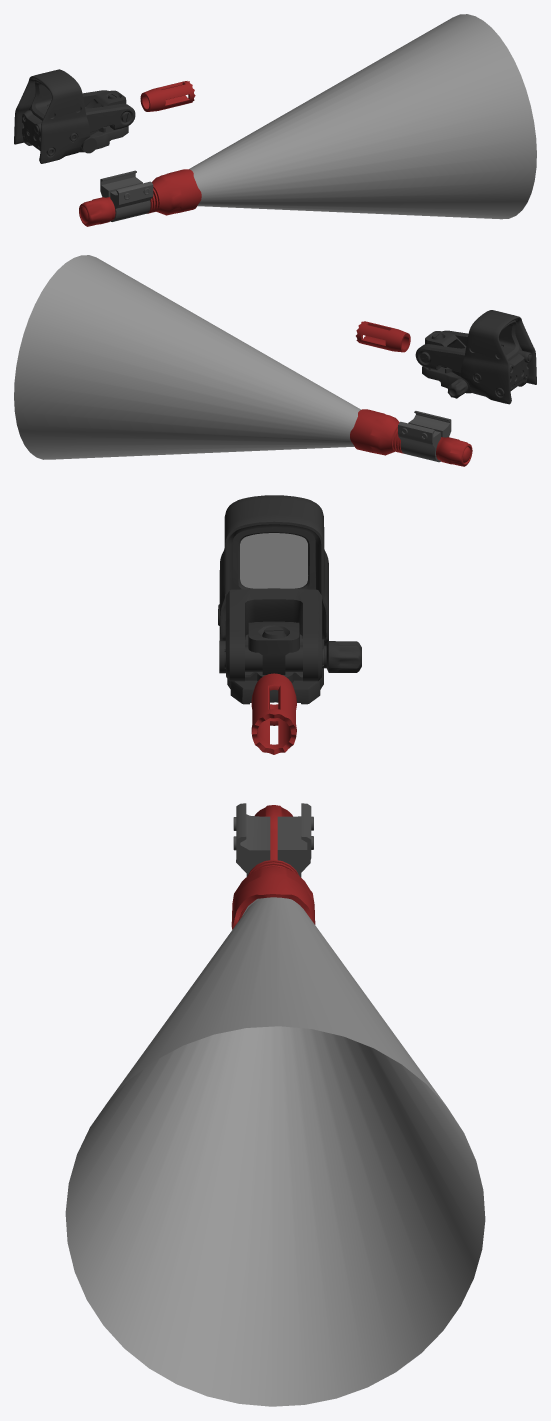
File: moduli mini gun 1.FBX
3 views of the same model, one above another, from view 1: azimuth 30°, elevation 25°; view 2: azimuth 150°, elevation 25°; view 3: azimuth 270°, elevation 25° (orthographic). The views are drawn at different scales.
Parts seen in each view (by area): view 1: Cylinder001, Aim 3, Options 1 -2, laser sight 2, Options 1-3; view 2: Cylinder001, Aim 3, Options 1 -2, laser sight 2, Options 1-3; view 3: Cylinder001, Aim 3, laser sight 2, Options 1 -2, Options 1-3.
Boxes of the visible parts, x1,y1,x2,y2 form: Cylinder001: [189, 14, 536, 219]; Aim 3: [14, 69, 135, 163]; Options 1 -2: [79, 169, 201, 226]; laser sight 2: [100, 170, 153, 221]; Options 1-3: [140, 81, 195, 111]; Cylinder001: [14, 255, 360, 459]; Aim 3: [415, 310, 536, 404]; Options 1 -2: [350, 409, 472, 466]; laser sight 2: [398, 411, 451, 462]; Options 1-3: [356, 321, 410, 352]; Cylinder001: [65, 897, 485, 1406]; Aim 3: [218, 495, 361, 704]; laser sight 2: [233, 803, 313, 877]; Options 1 -2: [231, 805, 315, 929]; Options 1-3: [251, 673, 296, 754].
Bounding box in the file's own units: 152 × 76.14 × 60.39.
